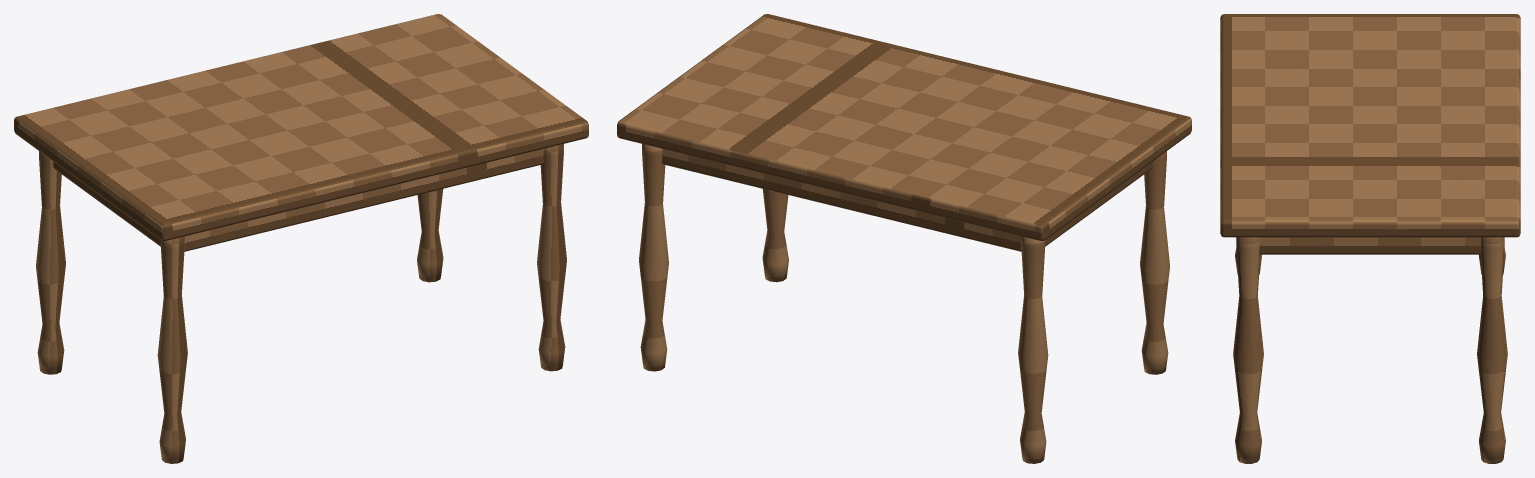
Rendered from table.glb.
The picture shows the model from 3 angles, left to right: view 1: azimuth 30°, elevation 25°; view 2: azimuth 150°, elevation 25°; view 3: azimuth 270°, elevation 25°; orthographic projection.
Parts seen in each view (by area): view 1: dyn_wood_variant; view 2: dyn_wood_variant; view 3: dyn_wood_variant.
Part boxes in pixels (box(x1,y1,x2,y2)): dyn_wood_variant: box(14, 14, 588, 463); dyn_wood_variant: box(617, 14, 1191, 463); dyn_wood_variant: box(1220, 14, 1520, 463).
Size of the model in its own units: 1.4 by 0.7805 by 0.8502.
1 material, 1 textured.
